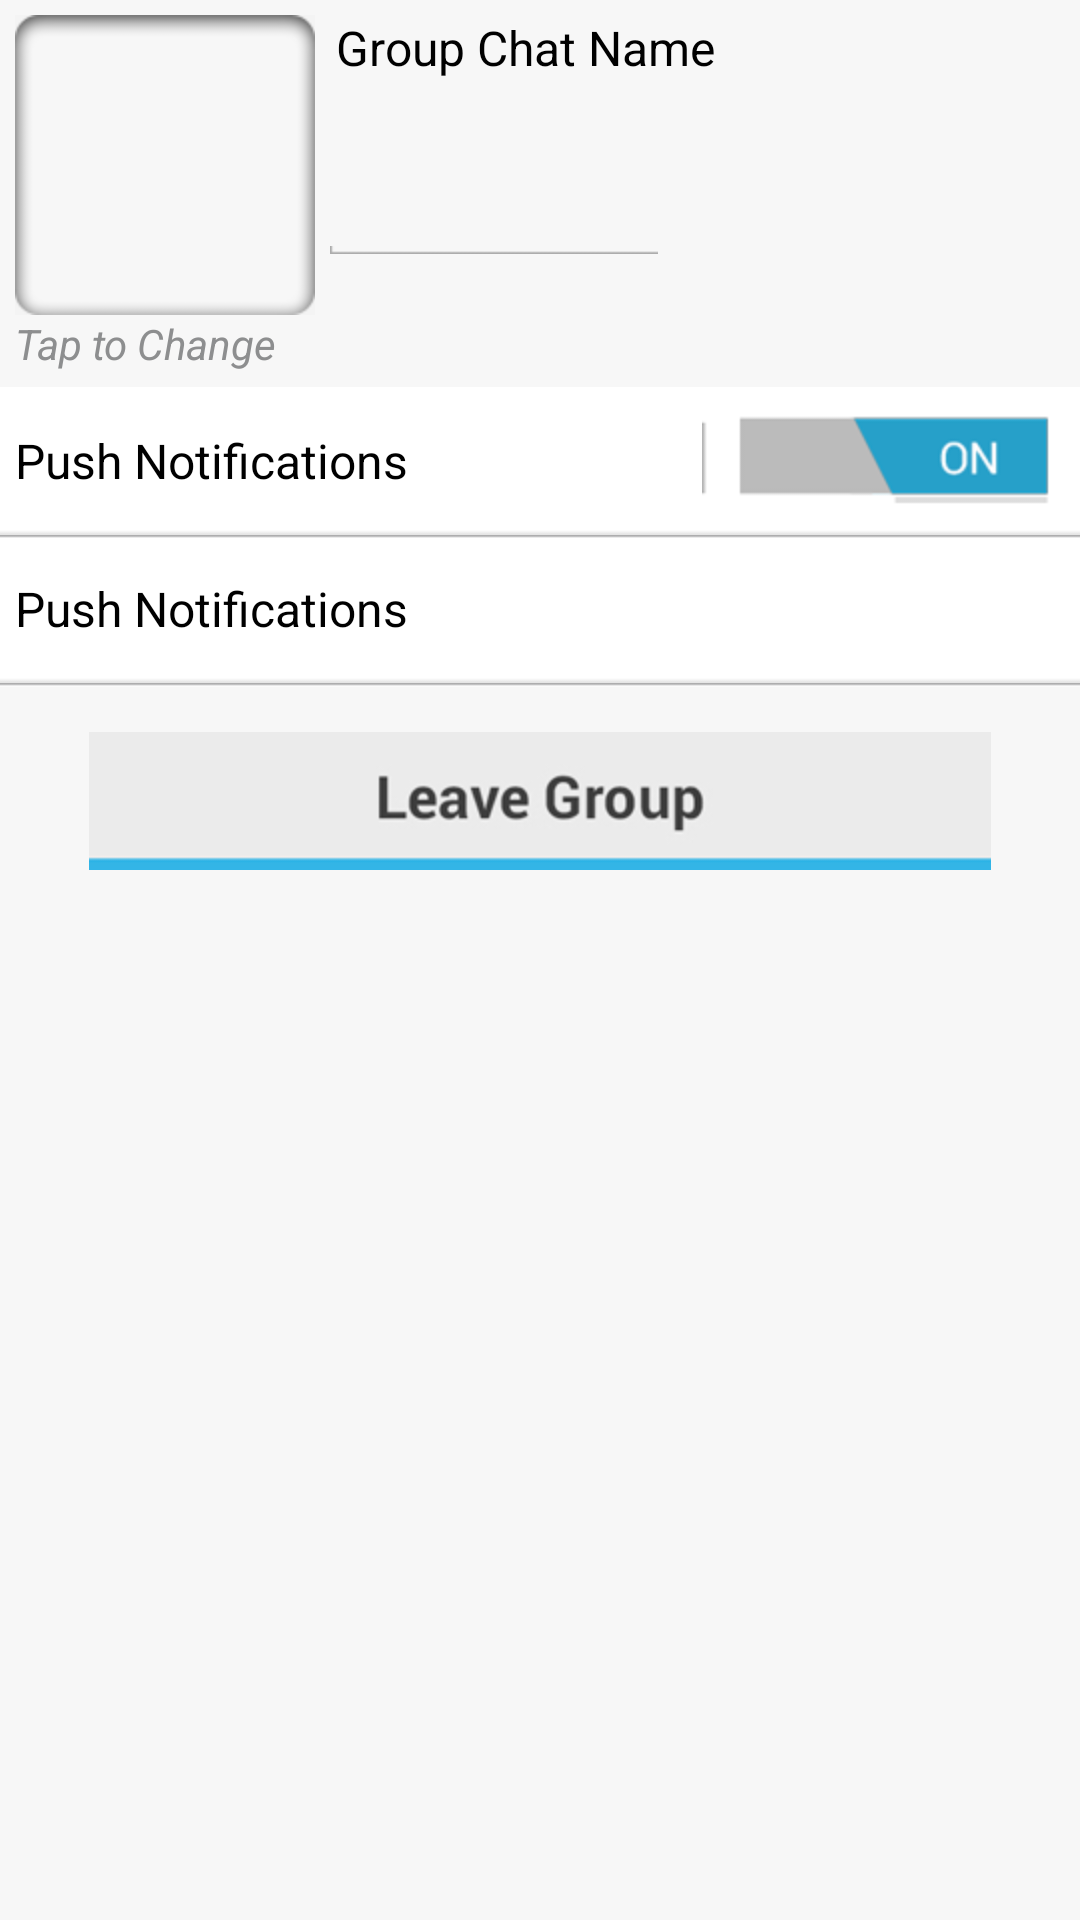

Icons on this 1080 x 1920 Android screen, each with its box as (x1, y1, x2, y2):
pushnotifications on: (702, 417, 1049, 503)
